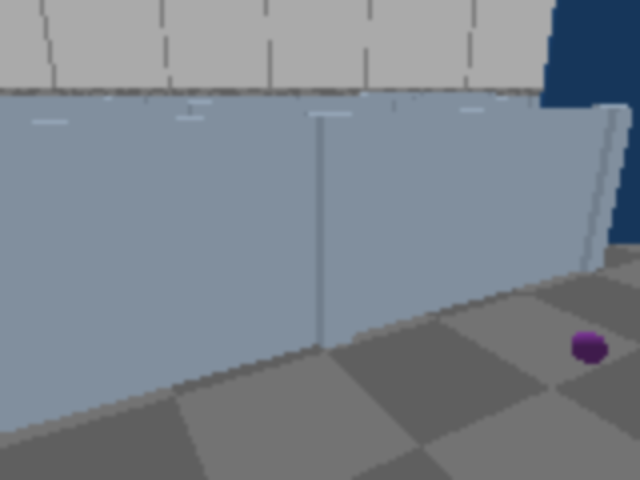puck: (565, 322, 612, 374)
